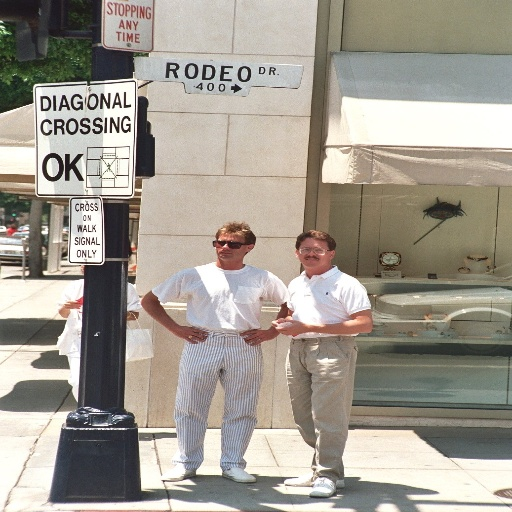hand: (237, 328, 272, 348), (273, 321, 306, 337), (175, 327, 204, 344), (271, 317, 289, 327), (61, 300, 79, 309)
